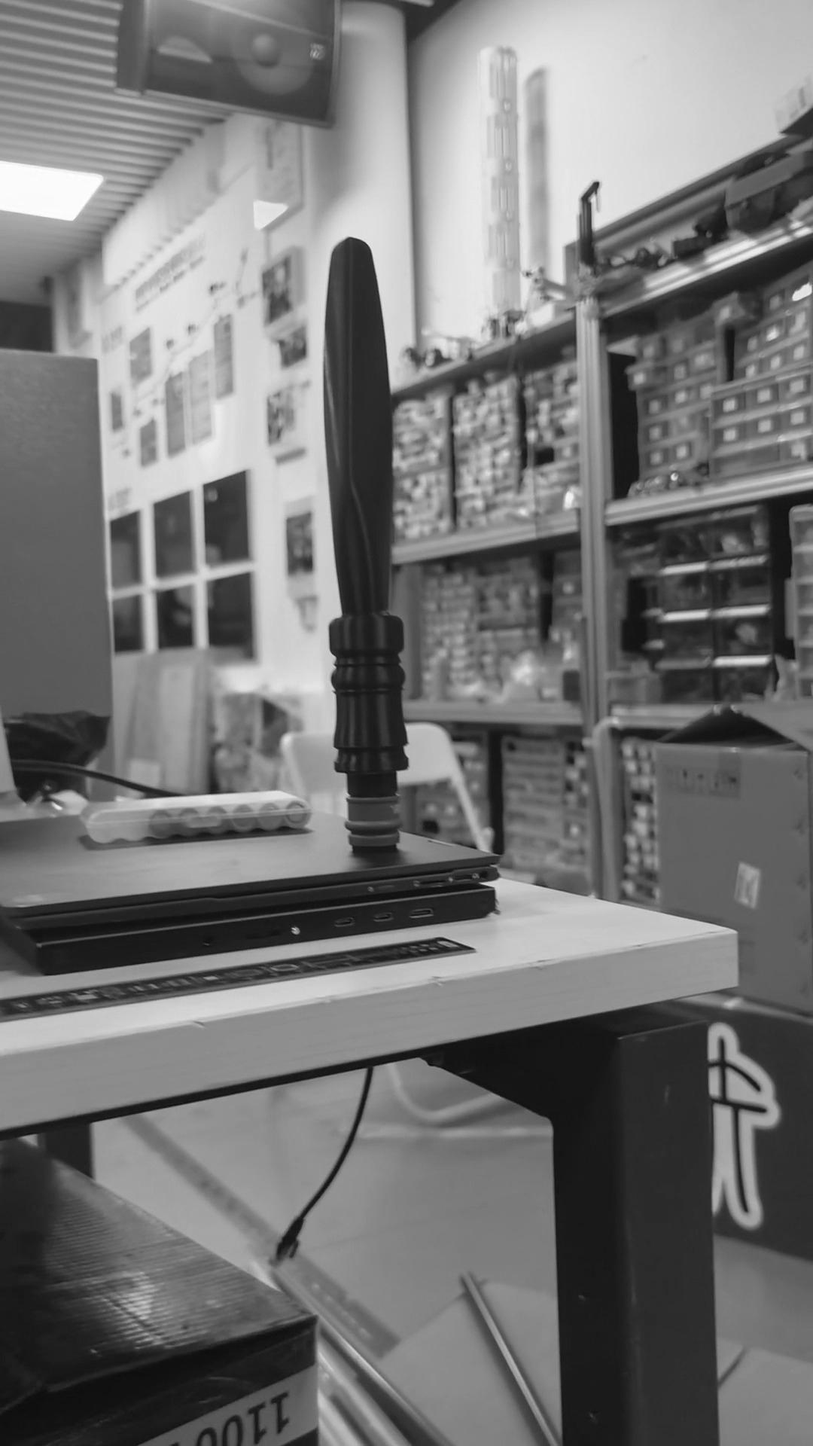base: (343, 790, 404, 850)
